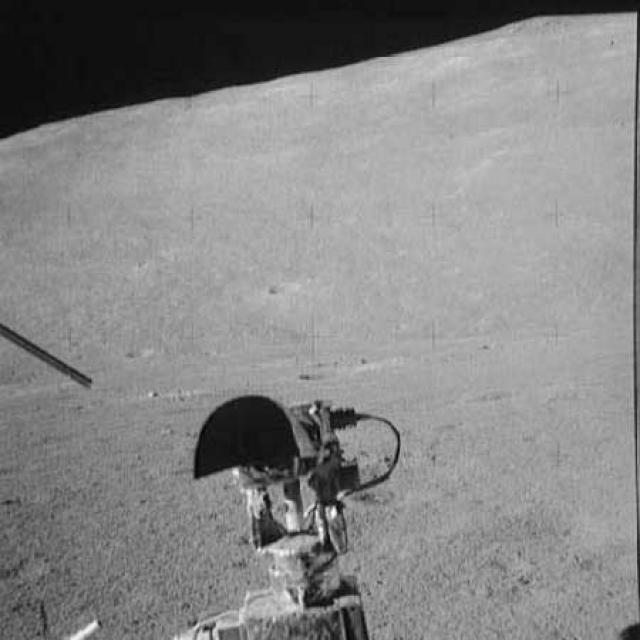artifact: (175, 387, 408, 638), (0, 321, 103, 394)
crater: (295, 352, 404, 384), (137, 378, 215, 407)
